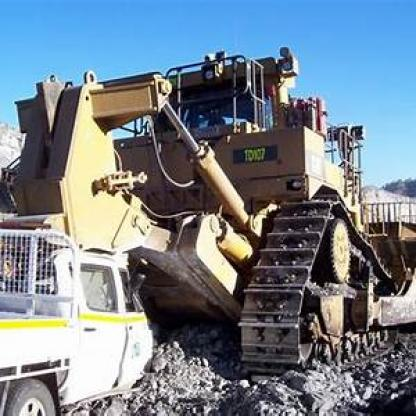bull_dozer/loader/grader: (11, 41, 415, 390)
